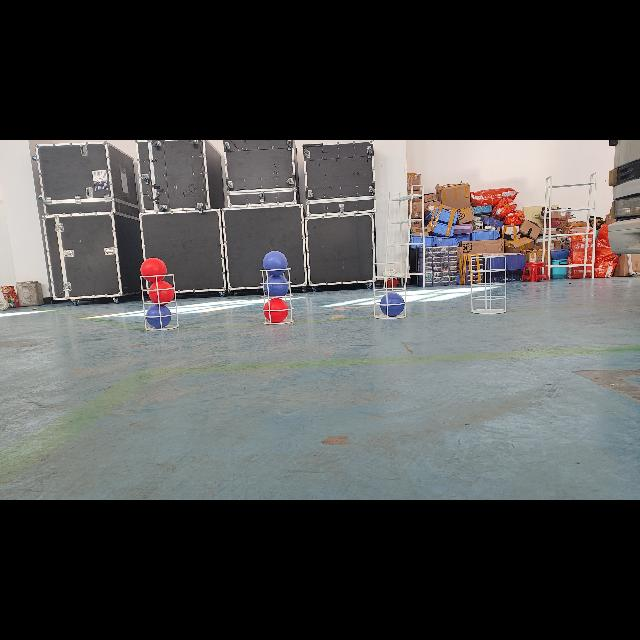B: (379, 293, 406, 317), (262, 250, 288, 274), (263, 274, 289, 298), (147, 304, 171, 328)
R: (141, 257, 167, 283), (264, 298, 290, 322), (150, 280, 174, 304)
S: (467, 253, 511, 317), (138, 273, 184, 333), (256, 266, 298, 328), (369, 259, 409, 321)
